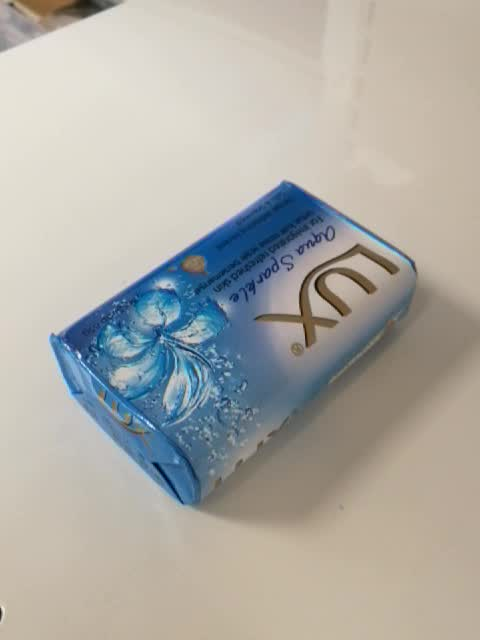soap: (50, 177, 418, 514)
